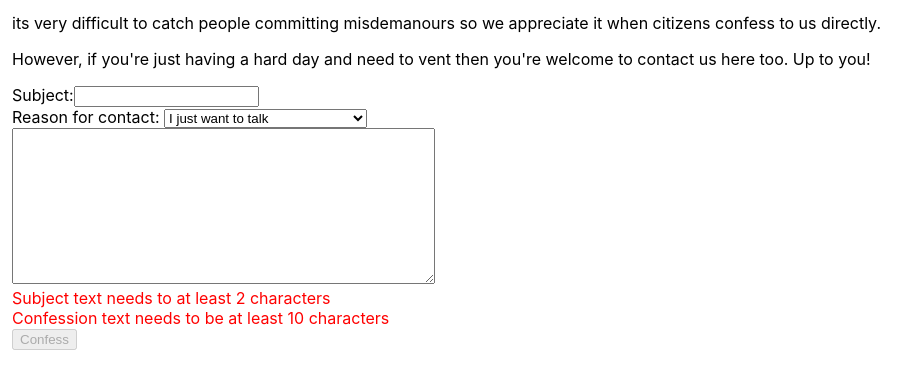
Scenario: Tests for confession page › Submit button enabled with valid entry
Type "I Confess" into the field. click: (166, 96)
box: [74,86,259,107]
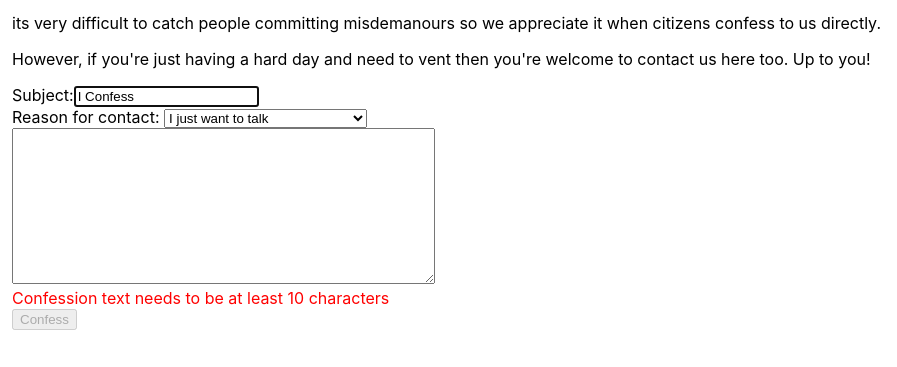
Type "This is some very long text that is needed here" into the text box. click: (224, 206)
box: [12,128,435,284]
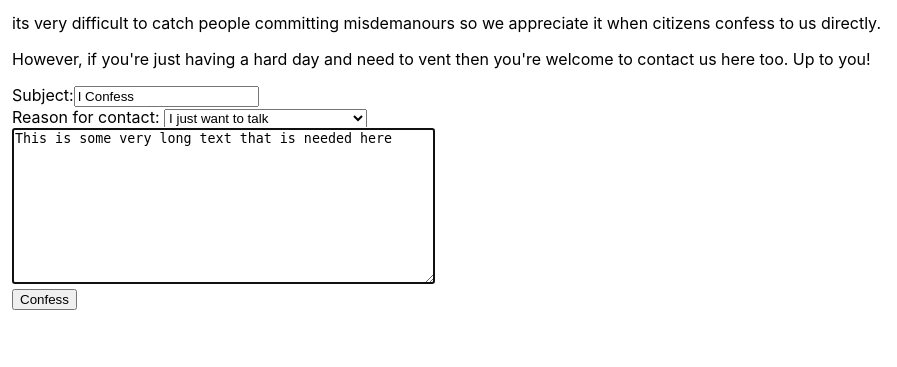
Check: the button is enabled, box [12,289,77,310]
